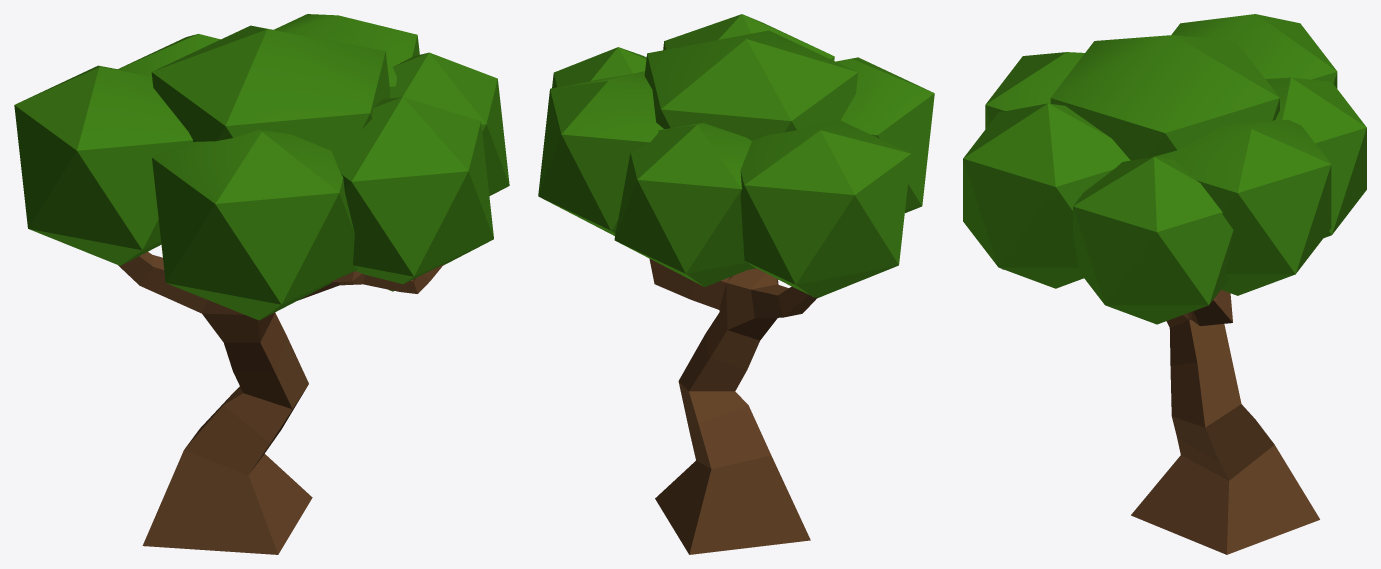
Rendered from tree1.fbx.
3 views of the same model, side by side, from view 1: azimuth 30°, elevation 25°; view 2: azimuth 150°, elevation 25°; view 3: azimuth 270°, elevation 25° (orthographic). The views are drawn at different scales.
Parts seen in each view (by area): view 1: Icosphere.001; view 2: Icosphere.001; view 3: Icosphere.001.
Boxes of the visible parts, x1,y1,x2,y2 form: Icosphere.001: [14, 14, 509, 554]; Icosphere.001: [538, 14, 934, 554]; Icosphere.001: [963, 14, 1366, 554].
Size of the model in its own units: 475 by 546 by 407.
